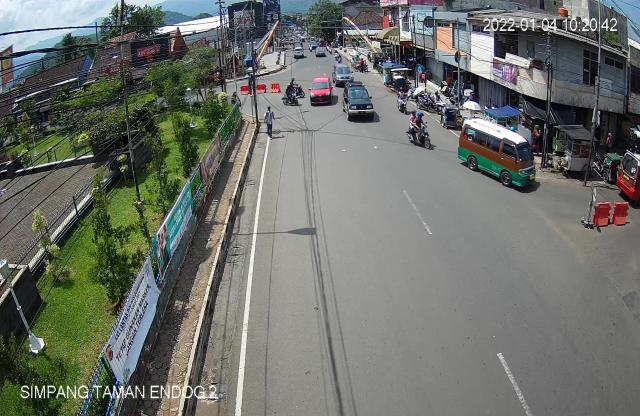Mobil: (455, 118, 542, 197), (341, 78, 377, 128), (308, 75, 335, 112)
Motor: (406, 111, 434, 156), (280, 75, 306, 109), (397, 86, 410, 119)
